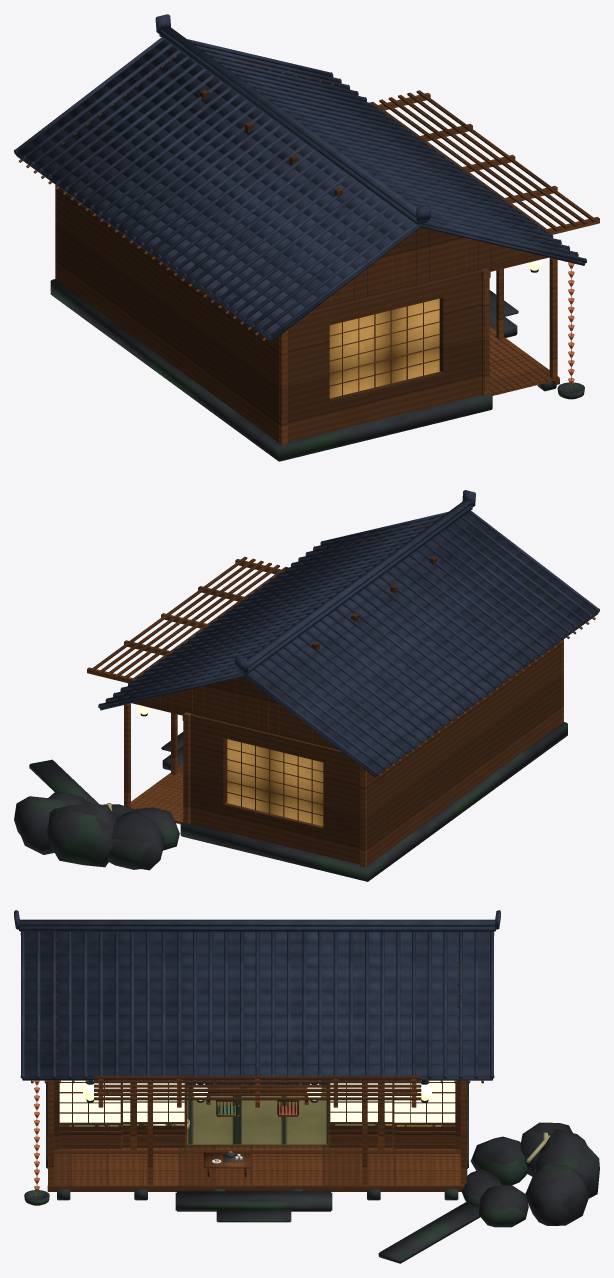
File: chunk_02_onsen.glb
3 renders of one model, top to bottom at view 1: azimuth 30°, elevation 25°; view 2: azimuth 150°, elevation 25°; view 3: azimuth 270°, elevation 25°, orthographic. The views are drawn at different scales.
Parts seen in each view (by area): view 1: L03_Onsen_Kawara_Roof, L03_Onsen_Hinoki_Carpentry, L03_Onsen_Basalt_And_Rotenburo, L03_Onsen_Side_Shoji_Screens, L03_Onsen_Lanterns_RainChain; view 2: L03_Onsen_Kawara_Roof, L03_Onsen_Hinoki_Carpentry, L03_Onsen_Basalt_And_Rotenburo, L03_Onsen_Side_Shoji_Screens; view 3: L03_Onsen_Kawara_Roof, L03_Onsen_Hinoki_Carpentry, L03_Onsen_Basalt_And_Rotenburo, L03_Onsen_Shoji_Screens, L03_Onsen_Interior_Tatami, L03_Interior_Study_Furniture, L03_Onsen_Lanterns_RainChain, L03_Veranda_Tea_Desk_Set.
Boxes of the visible parts, box(x1,y1,x2,y2) form: L03_Onsen_Kawara_Roof: box(14, 14, 586, 341); L03_Onsen_Hinoki_Carpentry: box(19, 54, 599, 445); L03_Onsen_Basalt_And_Rotenburo: box(50, 279, 584, 461); L03_Onsen_Side_Shoji_Screens: box(329, 298, 439, 398); L03_Onsen_Lanterns_RainChain: box(527, 259, 574, 388); L03_Onsen_Kawara_Roof: box(98, 490, 599, 776); L03_Onsen_Hinoki_Carpentry: box(87, 525, 595, 867); L03_Onsen_Basalt_And_Rotenburo: box(14, 722, 567, 881); L03_Onsen_Side_Shoji_Screens: box(227, 739, 323, 826); L03_Onsen_Kawara_Roof: box(14, 910, 500, 1080); L03_Onsen_Hinoki_Carpentry: box(31, 938, 483, 1191); L03_Onsen_Basalt_And_Rotenburo: box(24, 1080, 599, 1263); L03_Onsen_Shoji_Screens: box(59, 1080, 455, 1122); L03_Onsen_Interior_Tatami: box(69, 1087, 445, 1144); L03_Interior_Study_Furniture: box(71, 1083, 308, 1132); L03_Onsen_Lanterns_RainChain: box(34, 1080, 432, 1195); L03_Veranda_Tea_Desk_Set: box(203, 1148, 250, 1177).
Size of the model in its own units: 13.42 by 7 by 16.47.
46 materials, 21 textured.
